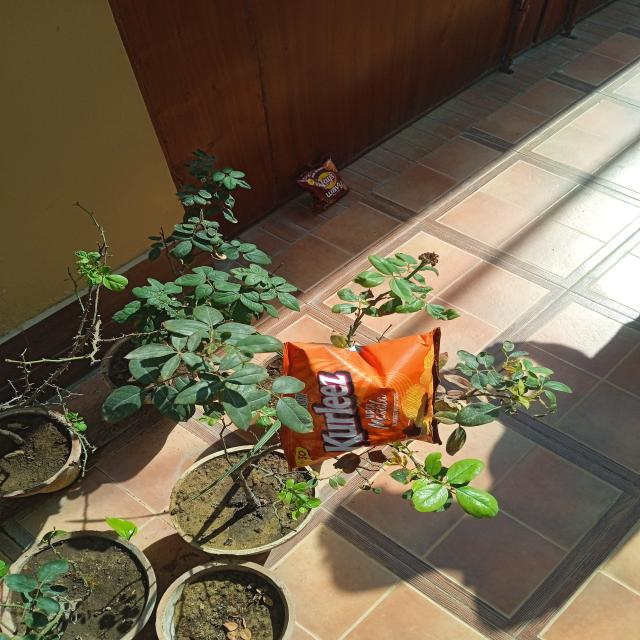Plastic: (285, 342, 443, 456)
